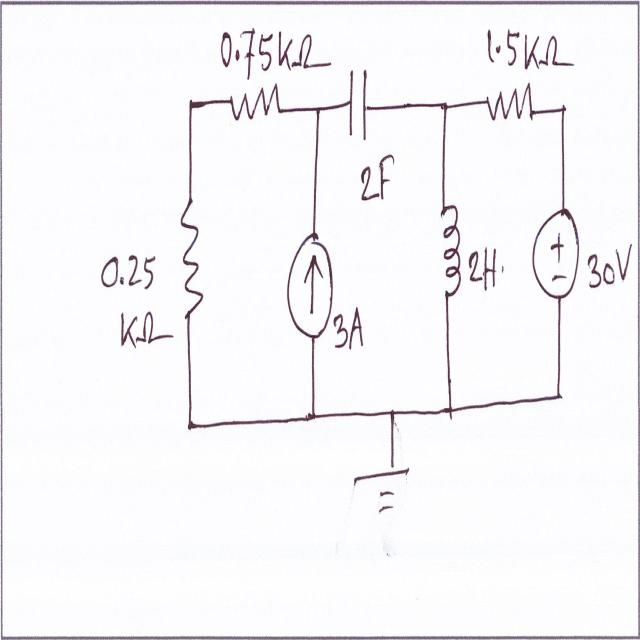capacitor: (346, 53, 372, 150)
current_source: (284, 218, 336, 352)
ground: (344, 456, 420, 524)
inductor: (438, 191, 468, 315)
resistor: (177, 185, 209, 334), (227, 75, 283, 128), (482, 75, 538, 126)
voltage_source: (528, 197, 583, 308)
